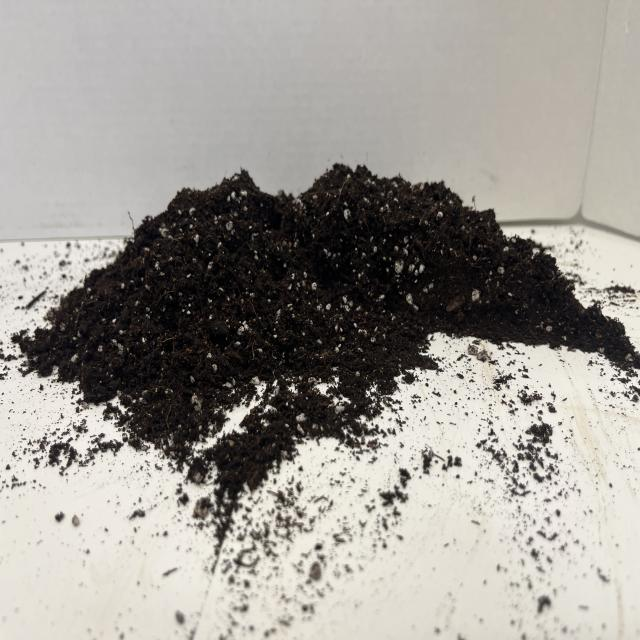soil: (12, 159, 636, 504)
